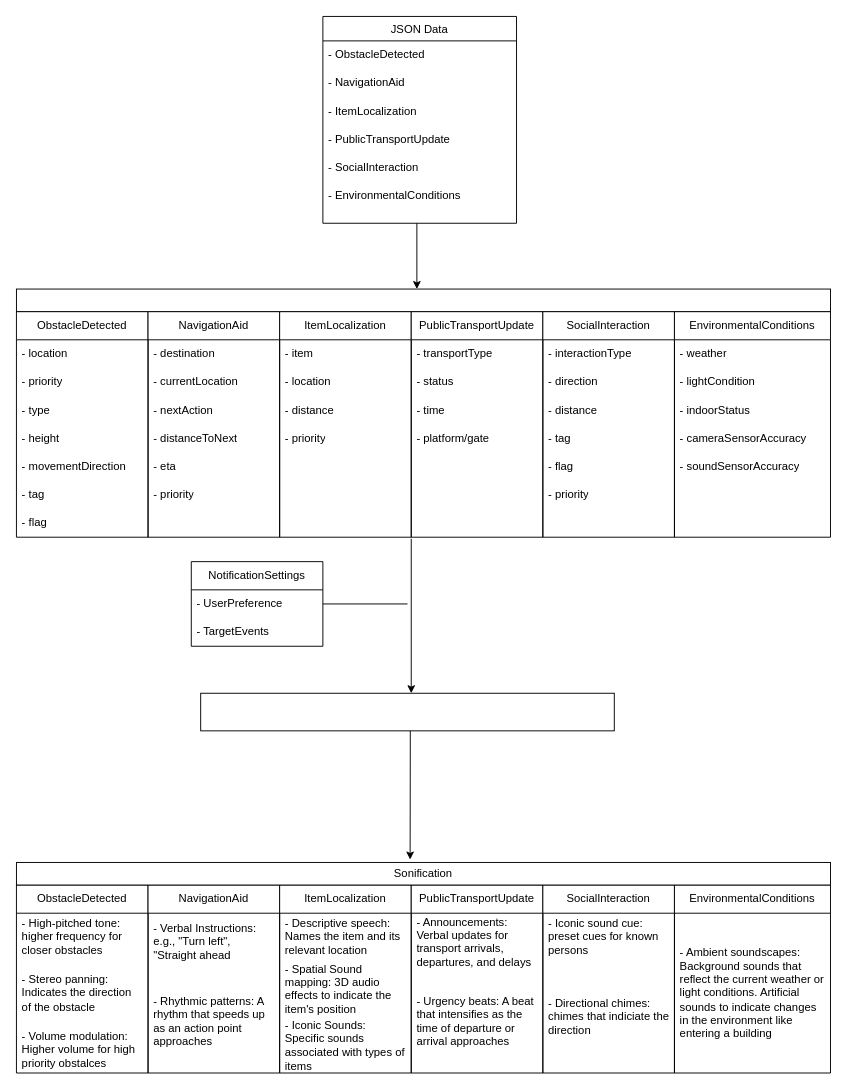
This 847x1089 diagram has some shape labels left out. The centre of each missing label's shape, as x and y in pixels:
"Contextualize Data" belongs at pixel 423 300.
"Priority Queue" belongs at pixel 407 711.
